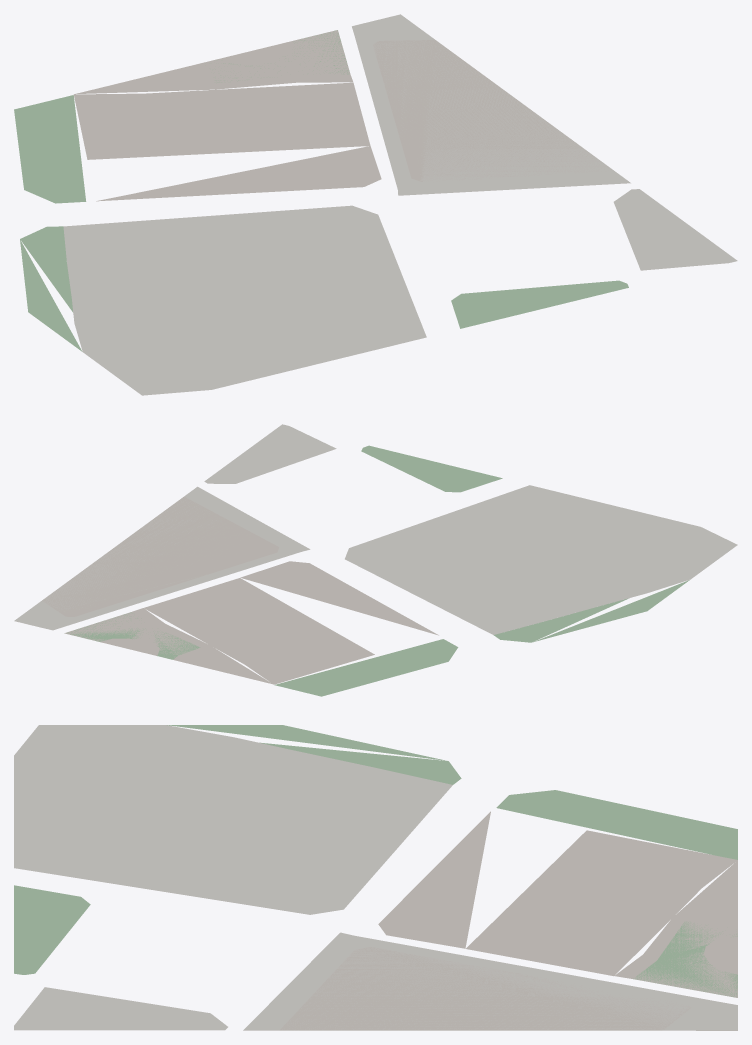
File: 101_95_mid.glb
3 renders of one model, top to bottom at view 1: azimuth 30°, elevation 25°; view 2: azimuth 150°, elevation 25°; view 3: azimuth 270°, elevation 25°, orthographic. The views are drawn at different scales.
Bounding box in the file's own units: 500 × 0.9065 × 500.
